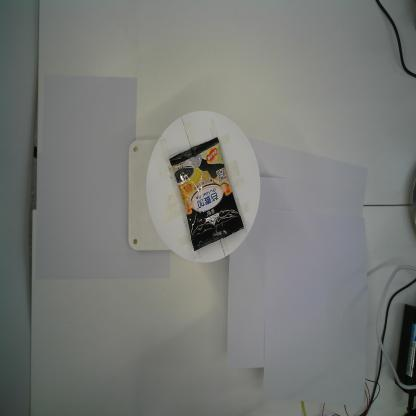Instant Drink: (168, 137, 244, 252)
